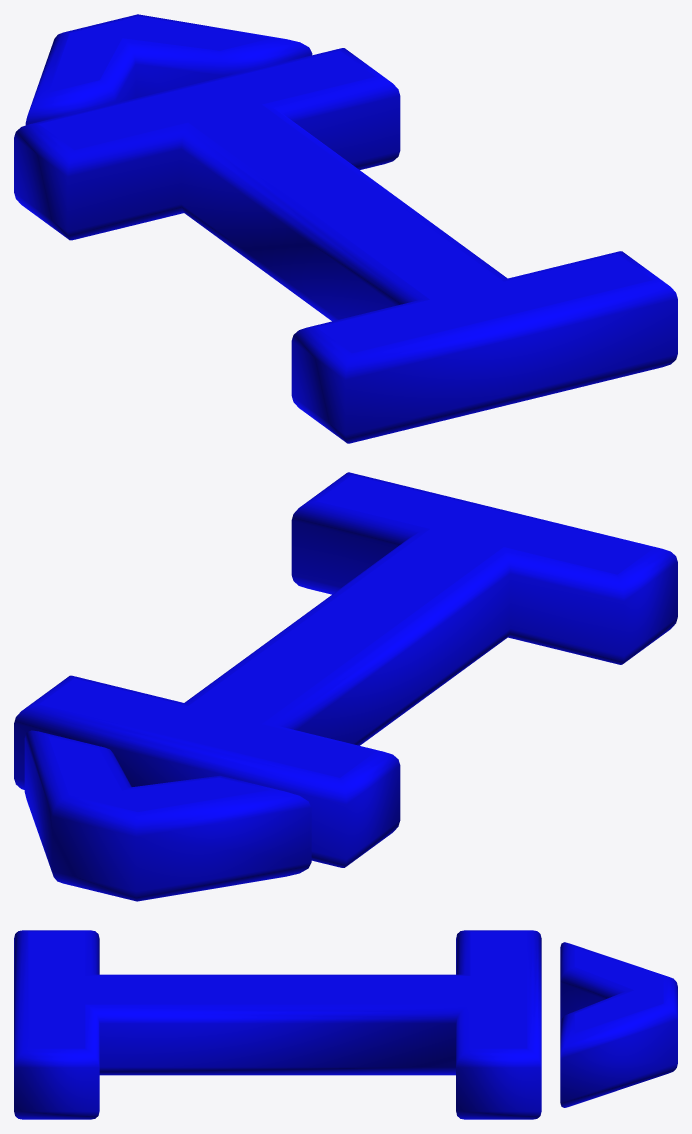
3 views of the same model, one above another, from view 1: azimuth 30°, elevation 25°; view 2: azimuth 150°, elevation 25°; view 3: azimuth 270°, elevation 25° (orthographic). The views are drawn at different scales.
Visible parts, largest first — view 1: 206; view 2: 206; view 3: 206.
Boxes of the visible parts, x1,y1,x2,y2 form: 206: (14, 14, 677, 443); 206: (14, 472, 677, 901); 206: (14, 930, 677, 1119).
Size of the model in its own units: 0.6371 by 0.16 by 1.38.
